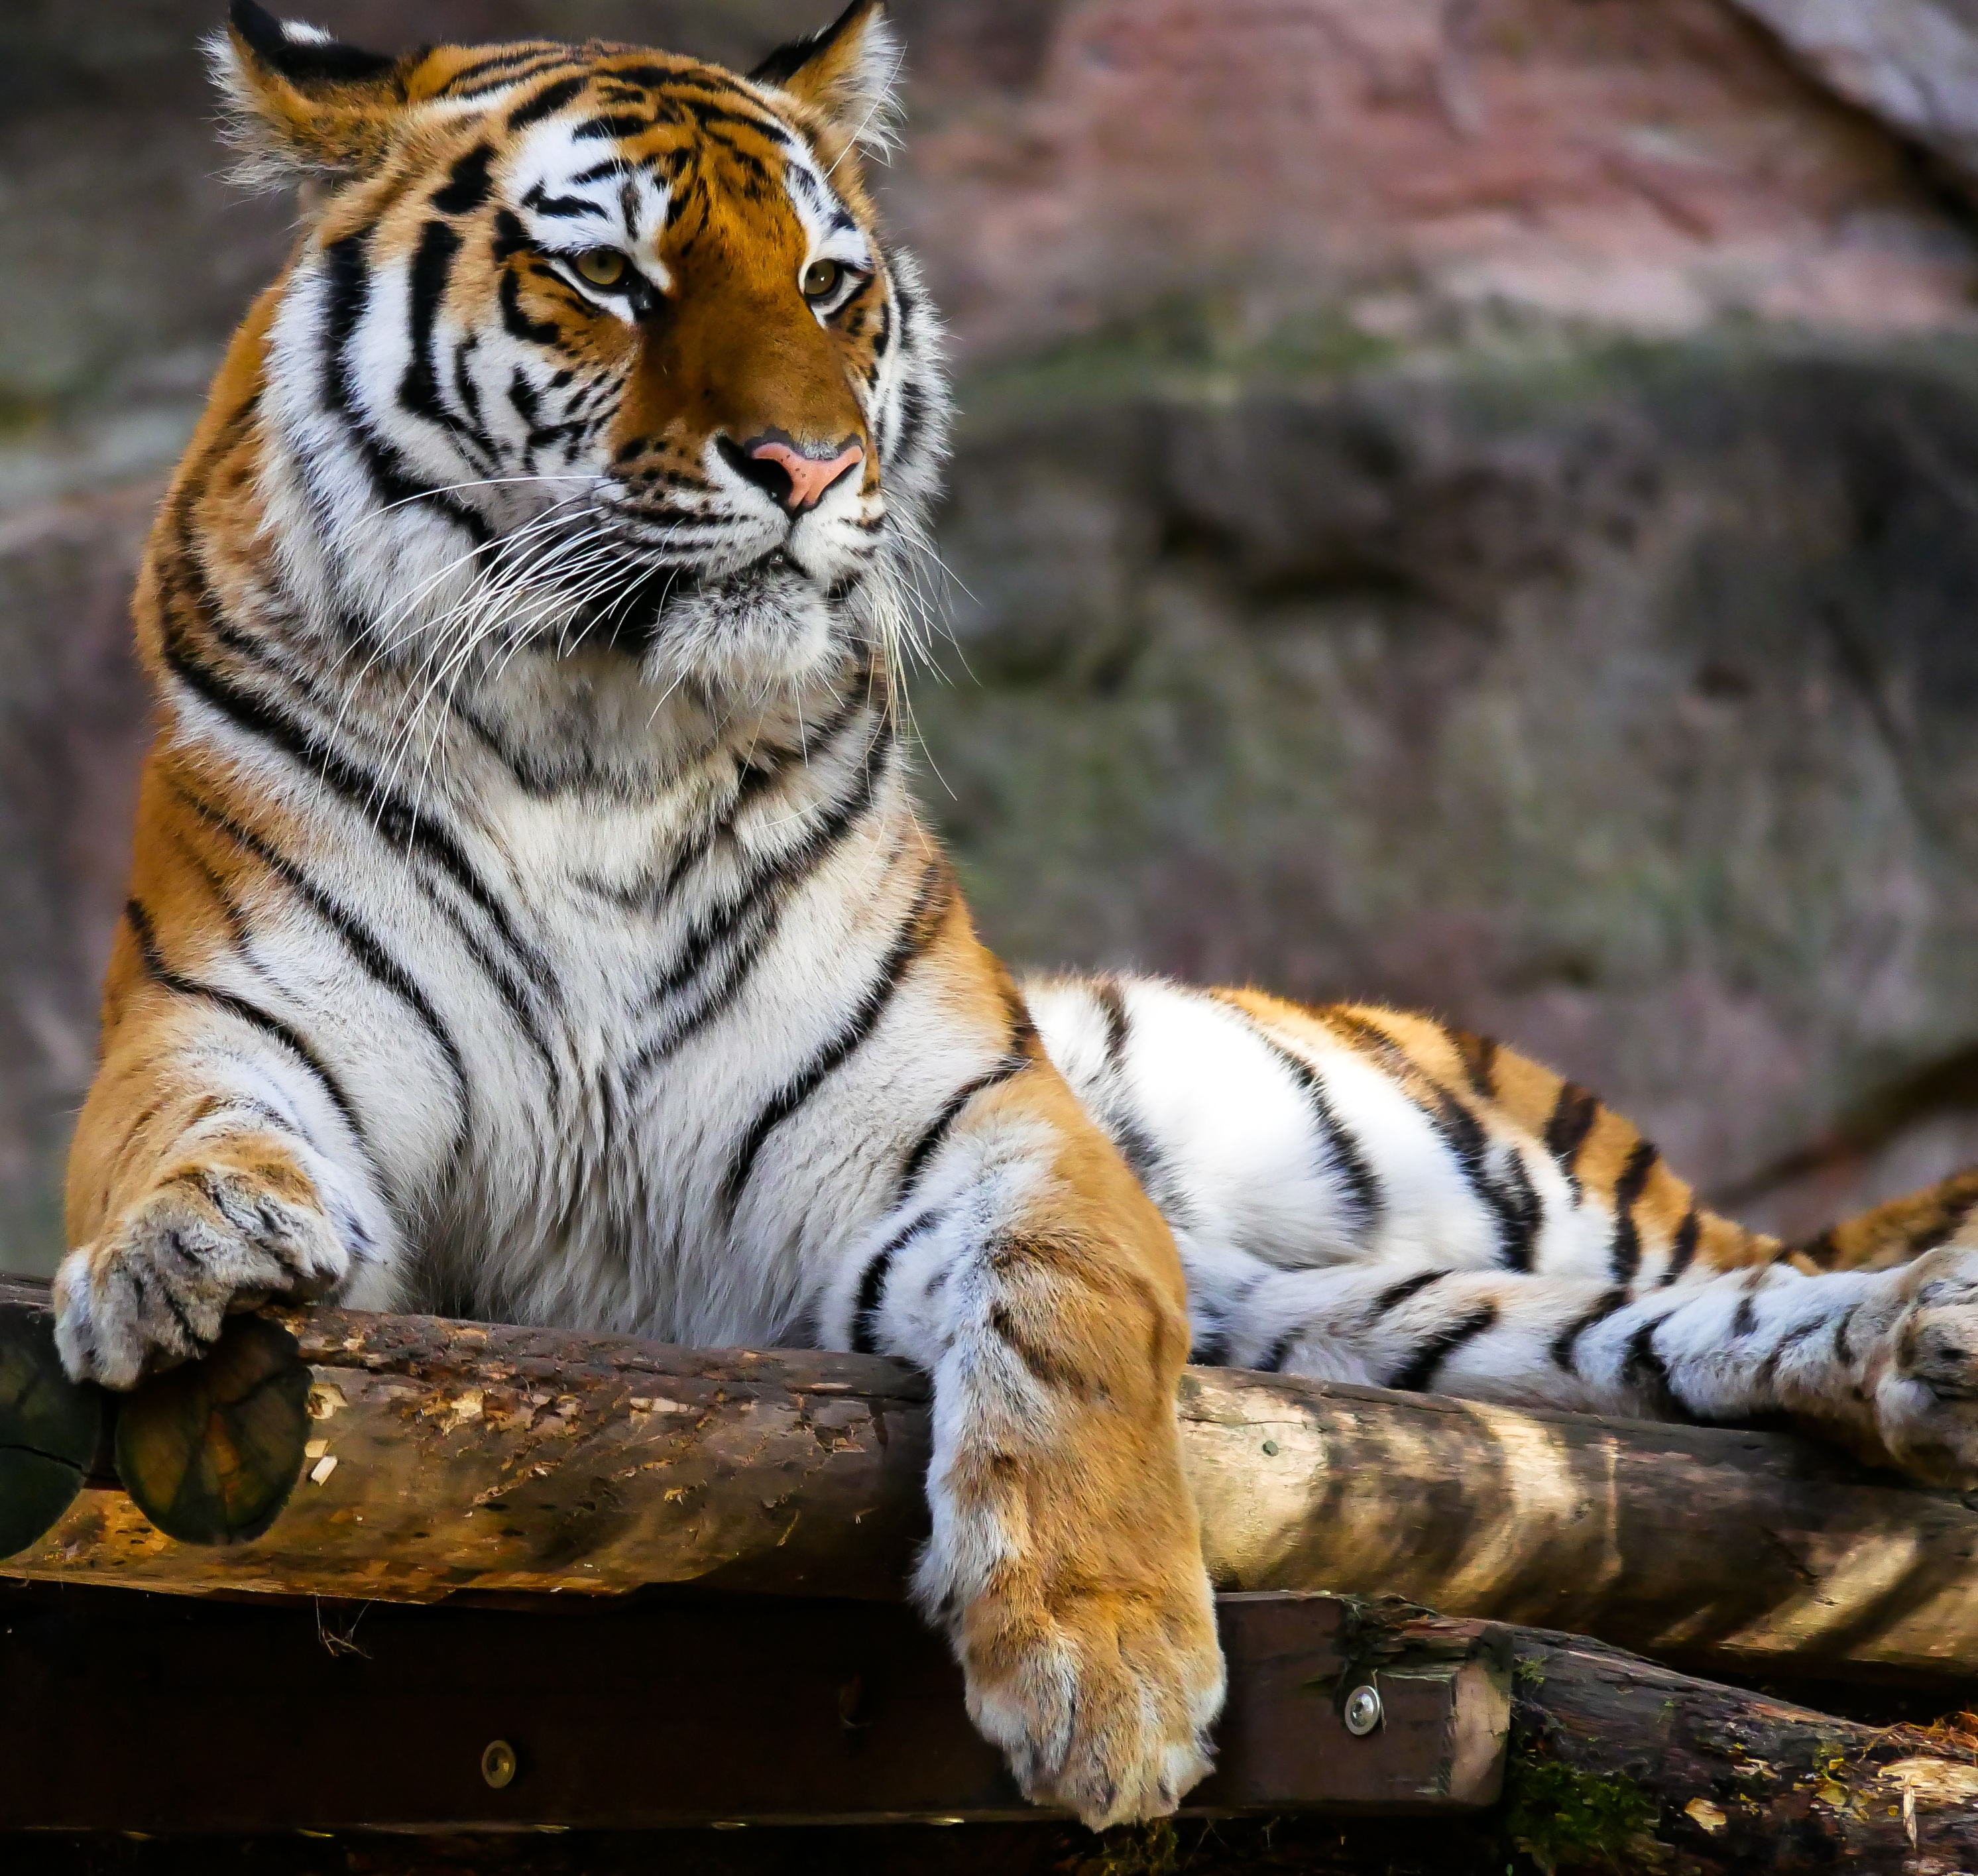tiger: (136, 32, 1886, 1680)
